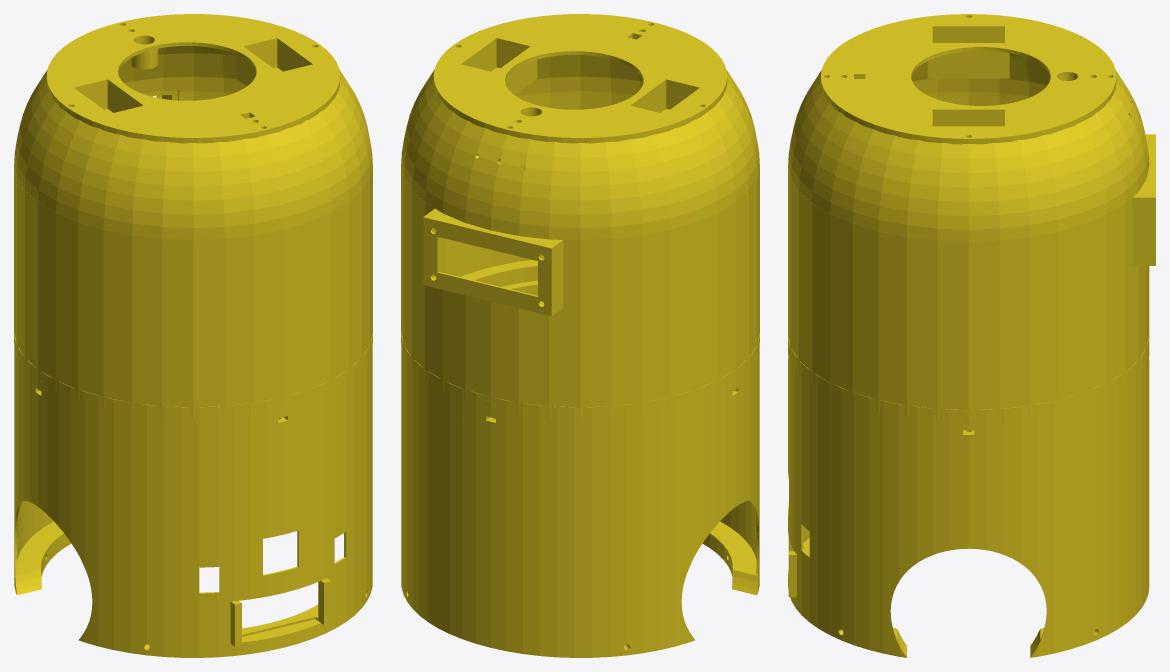
File: body.dae
The picture shows the model from 3 angles, left to right: view 1: azimuth 30°, elevation 25°; view 2: azimuth 150°, elevation 25°; view 3: azimuth 270°, elevation 25°; orthographic projection.
Parts seen in each view (by area): view 1: Robot_Cover_Full; view 2: Robot_Cover_Full; view 3: Robot_Cover_Full.
Boxes of the visible parts, bbox=[...] form: Robot_Cover_Full: bbox=[14, 14, 372, 657]; Robot_Cover_Full: bbox=[401, 14, 759, 657]; Robot_Cover_Full: bbox=[788, 14, 1155, 657].
Bounding box in the file's own units: 220 × 224 × 343.
